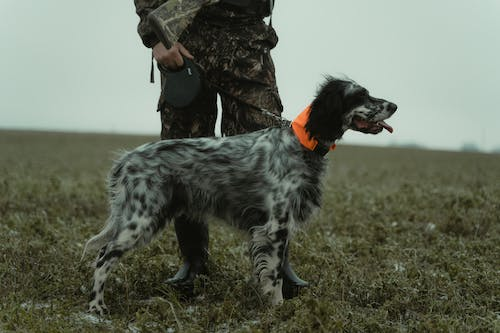gun: (145, 0, 212, 53)
